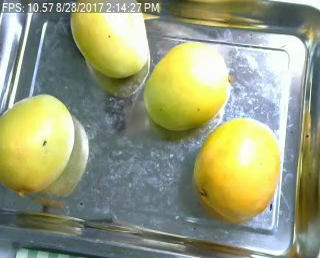Mango: (191, 118, 282, 218), (0, 91, 76, 194), (143, 43, 228, 129), (70, 0, 148, 79)
